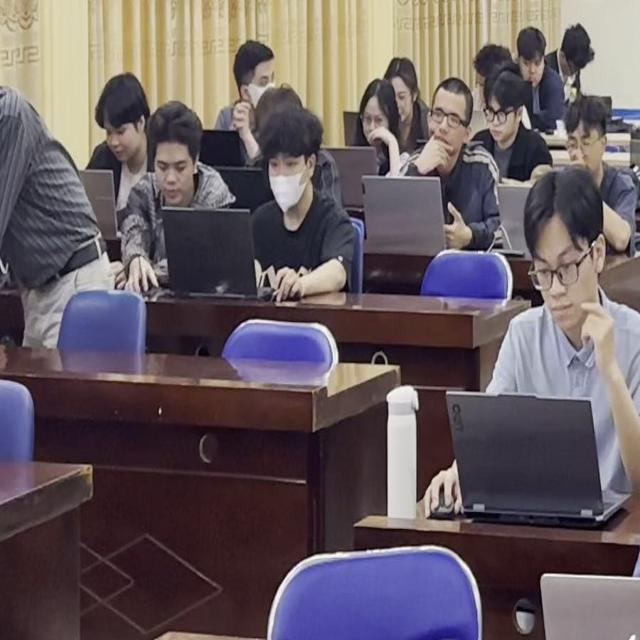Looking away: (526, 178, 603, 329), (258, 118, 314, 206), (142, 123, 198, 199), (99, 68, 146, 156), (235, 50, 281, 109), (488, 78, 526, 146), (433, 81, 464, 157), (571, 106, 600, 174)
Looking forward: (358, 85, 388, 146)
